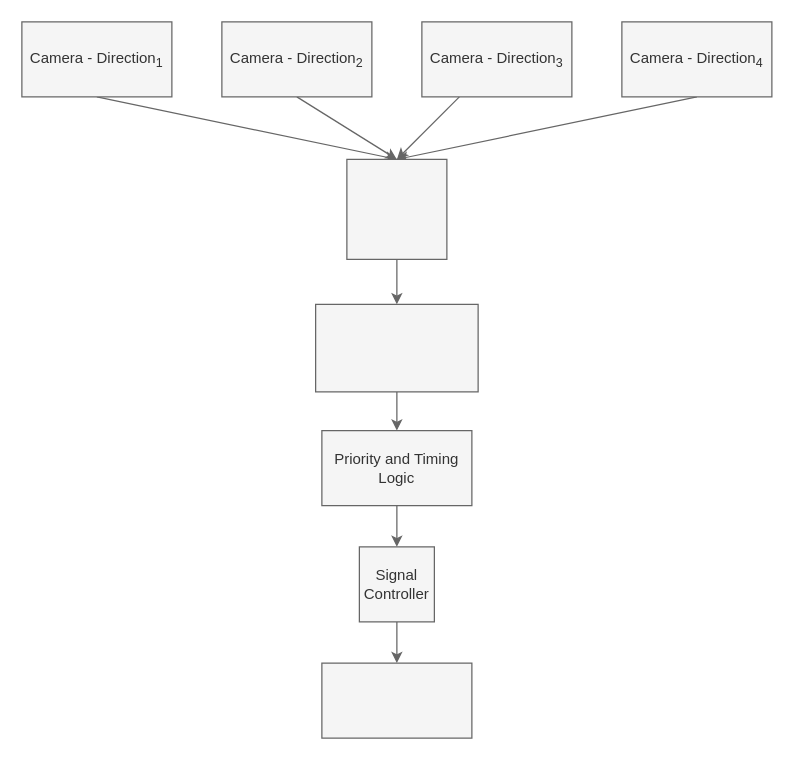
The diagram is 794 pixels wide and 760 high, and some of its shapes have lost their labels. Each missing label, with the centre of its shape:
Intersection Signals (d 1 ,d 2 ,d 3 ,d 4 ): (396,700)
Preprocessing (OpenCV): (396,208)
Real-time Vehicle Detection and counting (YOLOv8): (396,347)
